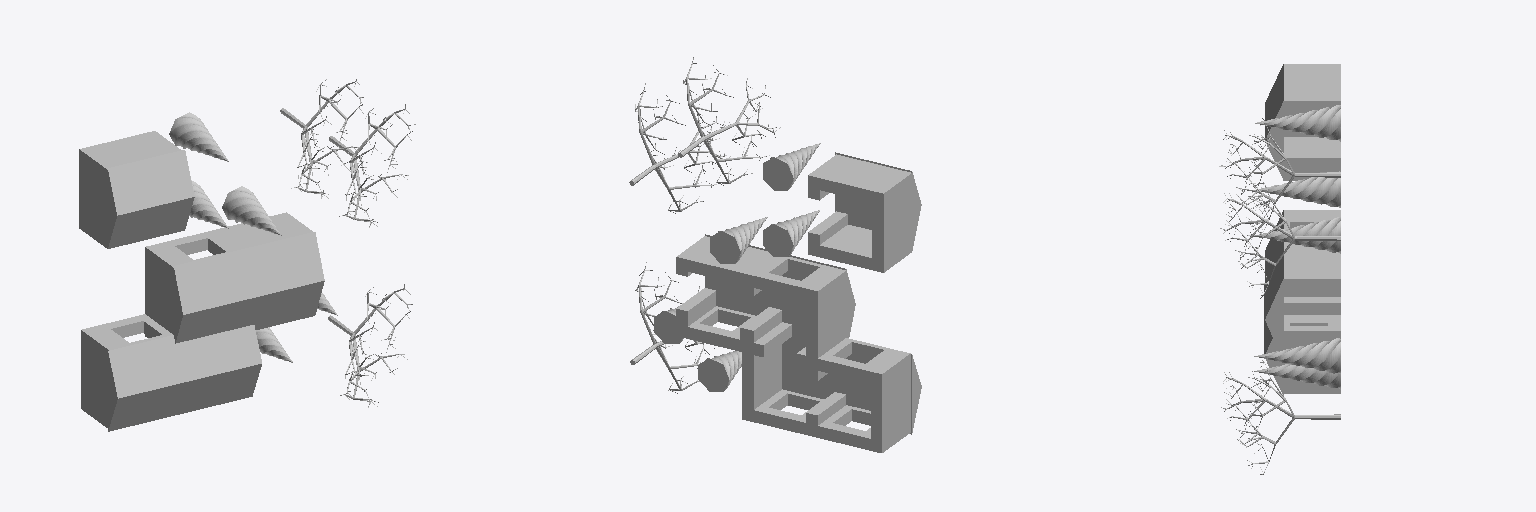
File: thing1.obj
The picture shows the model from 3 angles: view 1: azimuth 30°, elevation 25°; view 2: azimuth 150°, elevation 25°; view 3: azimuth 270°, elevation 25°; orthographic projection.
Visible parts, largest first — view 1: obj_0; view 2: obj_0; view 3: obj_0.
Boxes of the visible parts, box(x1,y1,x2,y2) form: obj_0: box(79, 79, 415, 431); obj_0: box(629, 57, 921, 452); obj_0: box(1219, 64, 1340, 474).
Bounding box in the file's own units: 178 × 197 × 64.12.